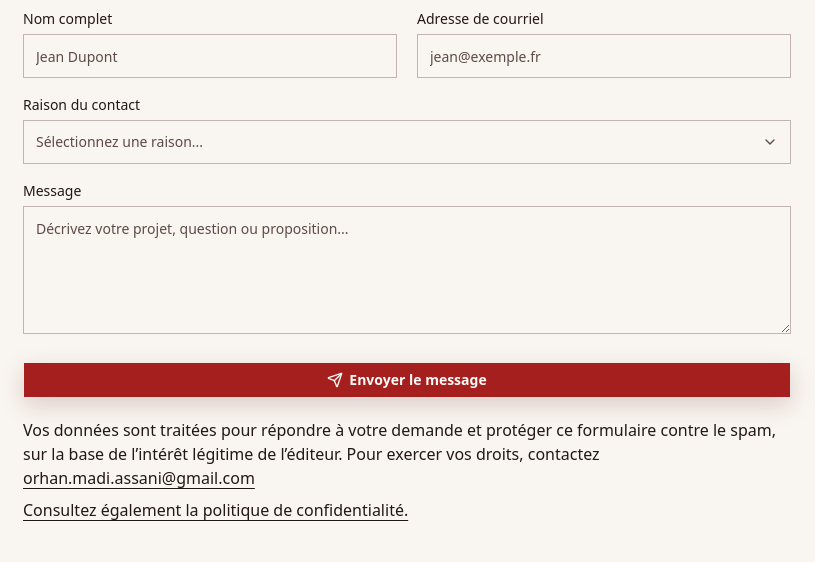
Test: ContactForm (browser) › character counter appears when typing
This screenshot has width=815, height=562.
In the text box labelled "Message": (407, 270) [23,206,791,334], type "Hello World"
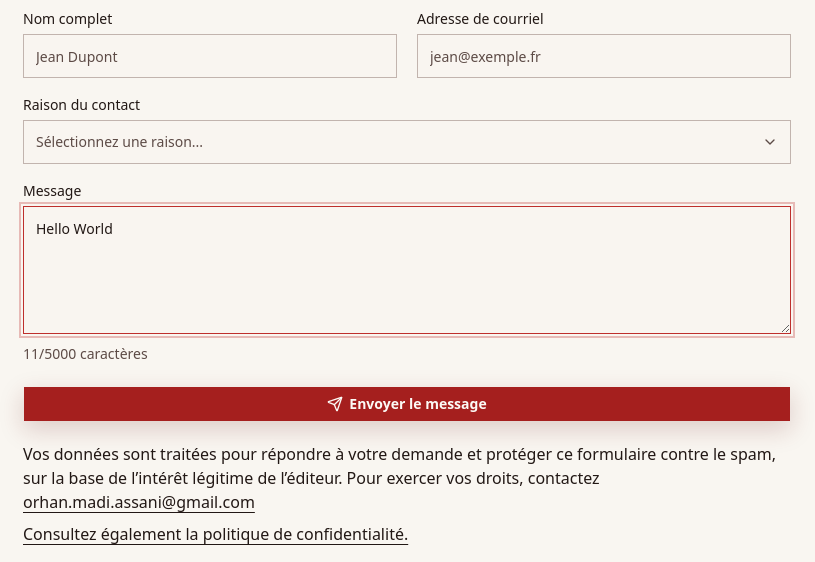
Result: the text "11/5000 caractères" is shown at [23,344,148,363]
